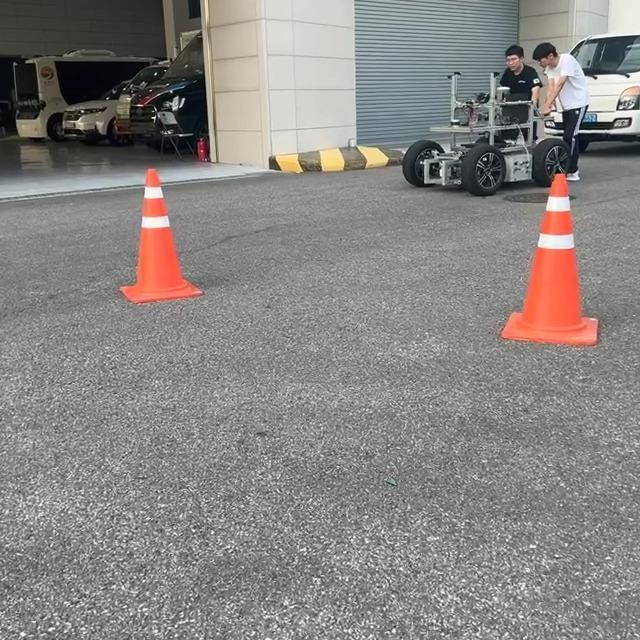fallen_object: (477, 175, 632, 383), (92, 163, 216, 281)
